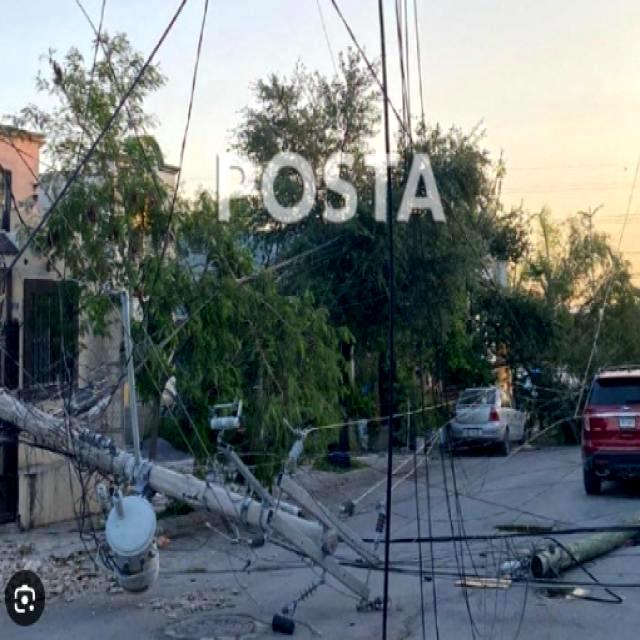Broken Pole: (34, 287, 638, 563)
